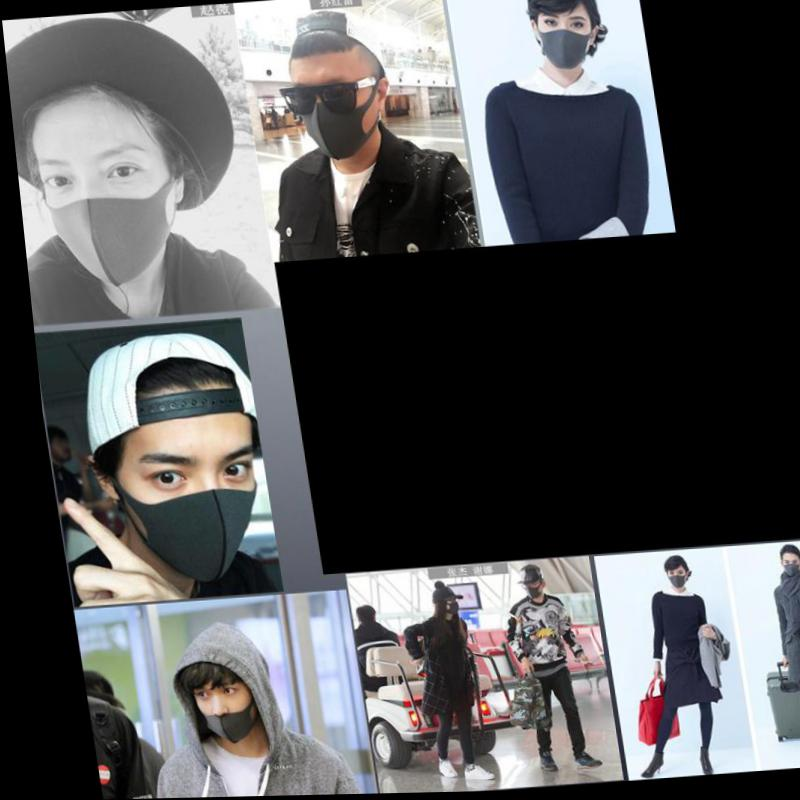OK: (29, 137, 192, 290), (123, 439, 279, 586), (279, 65, 383, 164), (533, 8, 600, 71), (654, 570, 677, 594), (770, 559, 792, 584), (430, 601, 450, 622), (510, 584, 533, 601)
WRONG: (176, 672, 252, 744)
